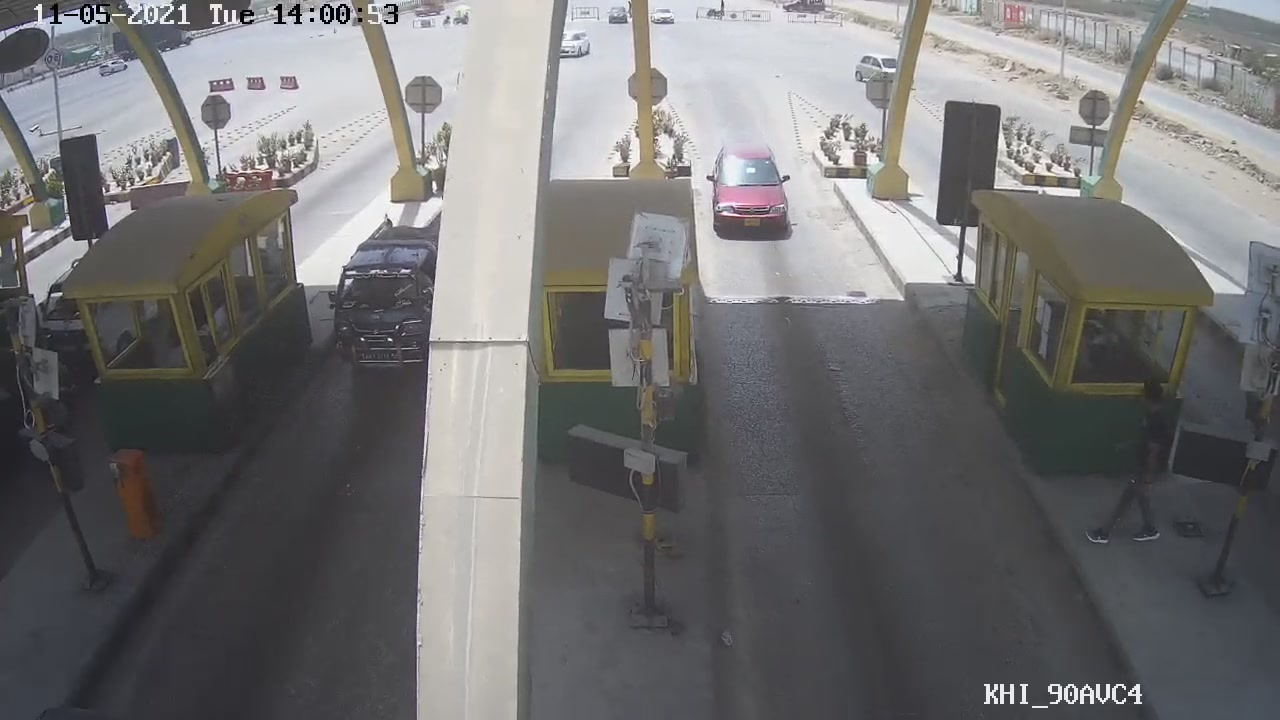F1: (706, 136, 807, 249)
